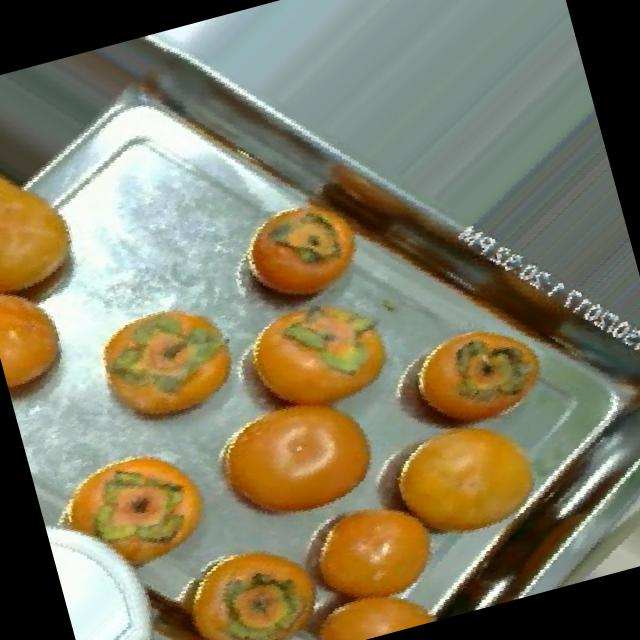Fruit: (358, 382, 586, 594), (178, 359, 408, 555), (200, 266, 424, 448), (358, 293, 580, 467), (28, 421, 235, 606), (65, 274, 268, 457), (269, 476, 471, 640), (211, 171, 393, 336), (0, 261, 97, 418)
